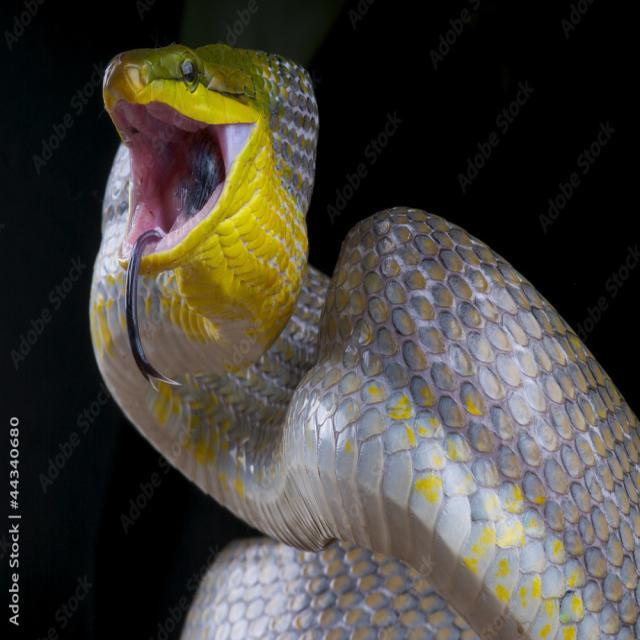Snake: (76, 27, 640, 640)
